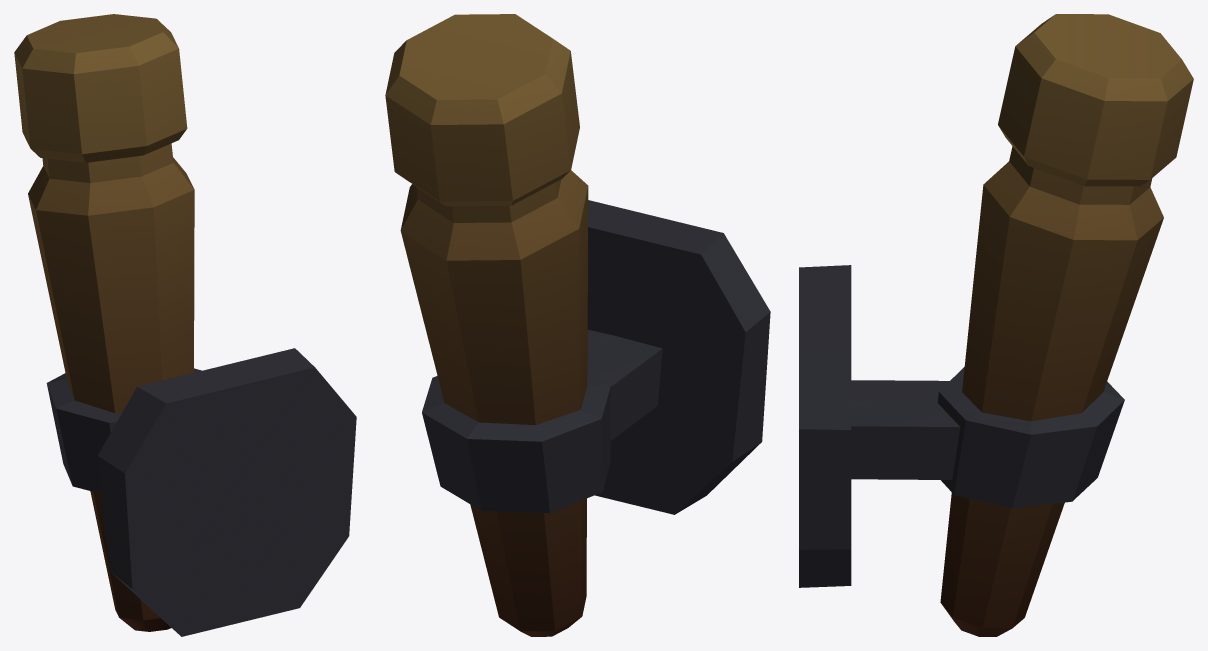
Rendered from Enviroment__Torch_002.fbx.
The picture shows the model from 3 angles, left to right: view 1: azimuth 30°, elevation 25°; view 2: azimuth 150°, elevation 25°; view 3: azimuth 270°, elevation 25°; orthographic projection. The views are drawn at different scales.
Parts seen in each view (by area): view 1: Cylinder.002, Cylinder.001; view 2: Cylinder.001, Cylinder.002; view 3: Cylinder.001, Cylinder.002.
Boxes of the visible parts, x1,y1,x2,y2 form: Cylinder.002: [46, 348, 356, 636]; Cylinder.001: [14, 14, 194, 631]; Cylinder.001: [385, 14, 588, 636]; Cylinder.002: [422, 200, 770, 514]; Cylinder.001: [940, 14, 1193, 636]; Cylinder.002: [799, 265, 1124, 587].
Bounding box in the file's own units: 6.94 × 15.8 × 9.46.
